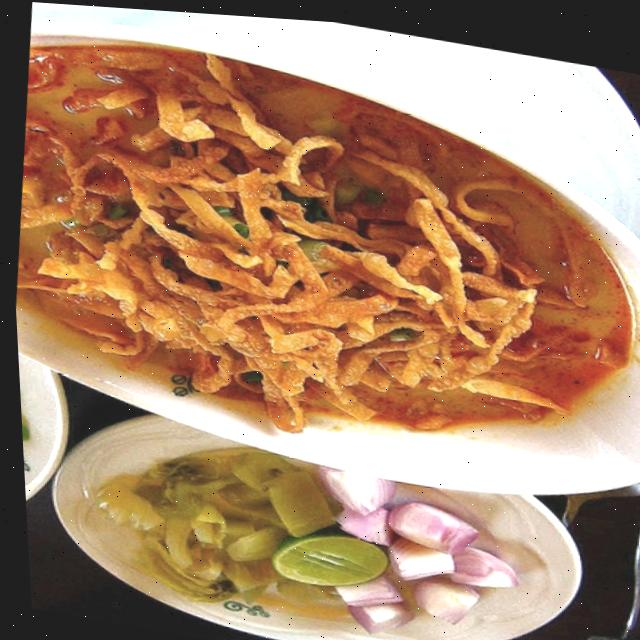面条主食: (0, 4, 640, 528)
